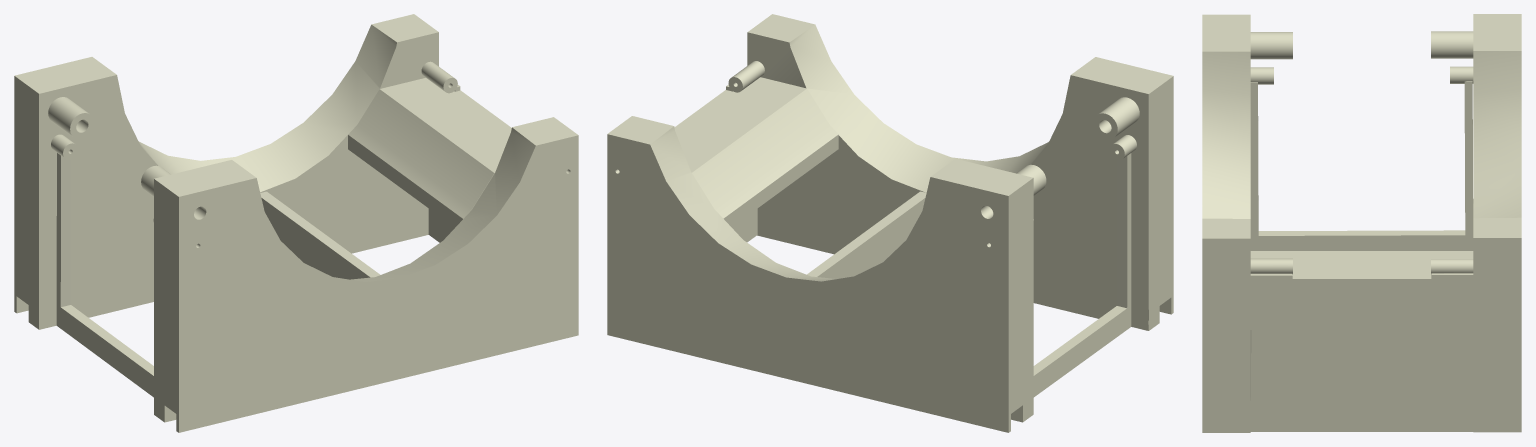
Rendered from baseNovaAmbu_Corrigida.dae.
3 renders of one model, left to right at view 1: azimuth 30°, elevation 25°; view 2: azimuth 150°, elevation 25°; view 3: azimuth 270°, elevation 25°, orthographic. The views are drawn at different scales.
Parts seen in each view (by area): view 1: SketchUp (×2); view 2: SketchUp (×2); view 3: SketchUp (×4).
Boxes of the visible parts, x1,y1,x2,y2 form: SketchUp (×2): (14, 14, 578, 432); SketchUp (×2): (607, 14, 1173, 432); SketchUp (×4): (1202, 14, 1521, 432).
Bounding box in the file's own units: 7.68 × 5.47 × 4.35.
